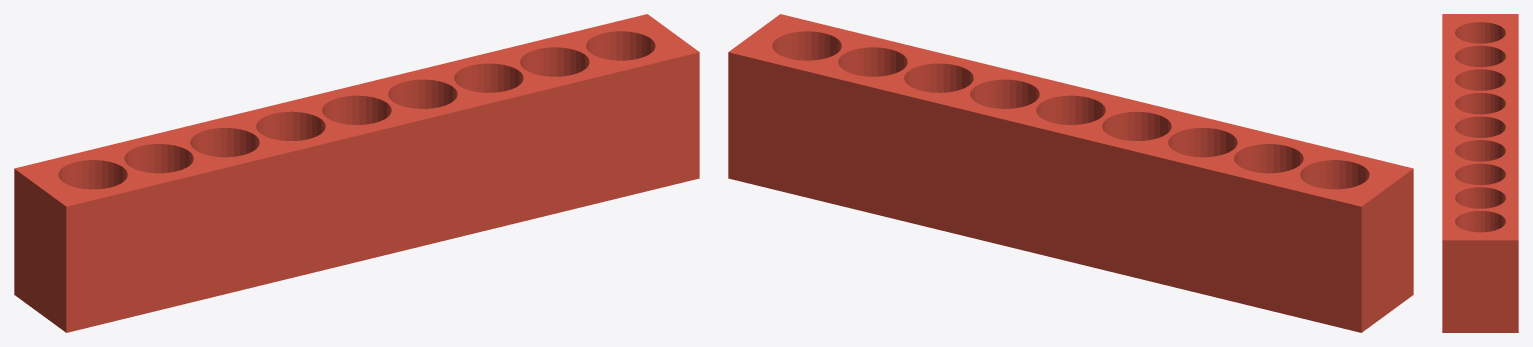
3 renders of one model, left to right at view 1: azimuth 30°, elevation 25°; view 2: azimuth 150°, elevation 25°; view 3: azimuth 270°, elevation 25°, orthographic. The views are drawn at different scales.
Visible parts, largest first — view 1: Cube; view 2: Cube; view 3: Cube.
Part boxes in pixels (<box>): Cube: <box>14,14,699,332</box>; Cube: <box>728,14,1413,332</box>; Cube: <box>1442,14,1518,332</box>.
Bounding box in the file's own units: 0.84 × 0.16 × 0.12.
